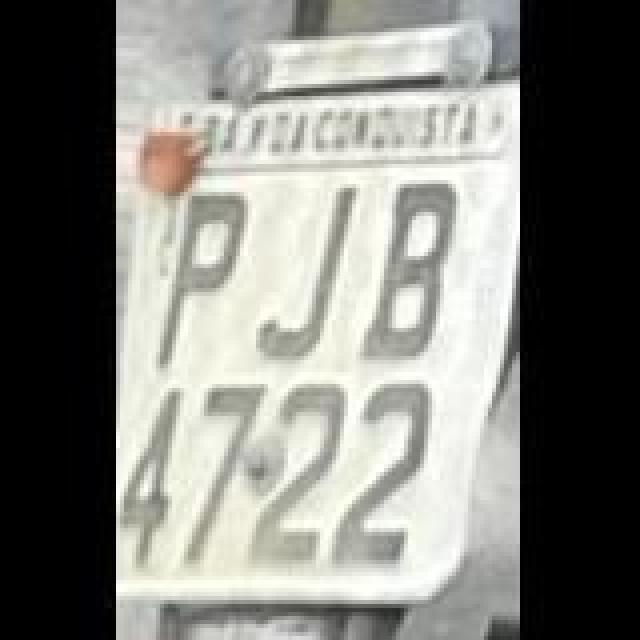2: (334, 370, 434, 574), (252, 376, 348, 568)
3: (122, 386, 182, 574)
7: (178, 370, 270, 574)
B: (364, 180, 460, 364)
J: (246, 180, 362, 372)
P: (148, 190, 244, 370)
